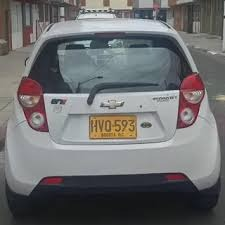car: (3, 12, 222, 215), (6, 15, 225, 217), (16, 24, 210, 155)
